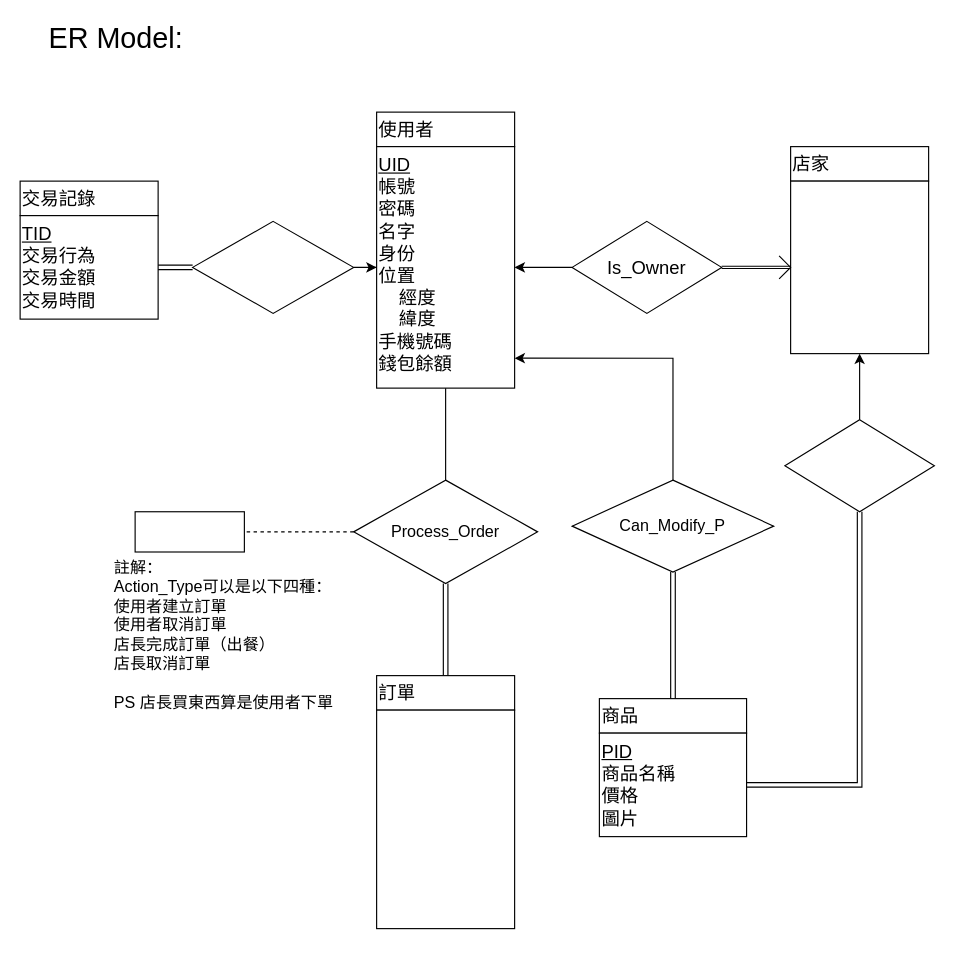
This 955x971 diagram has some shape labels left out. The shapes that lost their labels are listed below. From the top down, each one's centre as x and y in pixels, then its label:
(272,266): Transaction
(859,267): SID 店名 位置 經度 緯度 聯絡電話 餐點類型
(859,465): P_Belongs_to
(189,531): Action_Type
(445,819): OID 訂單狀態 訂單建立時間 訂單結束時間 商品 數量 外送距離 金額 種類
